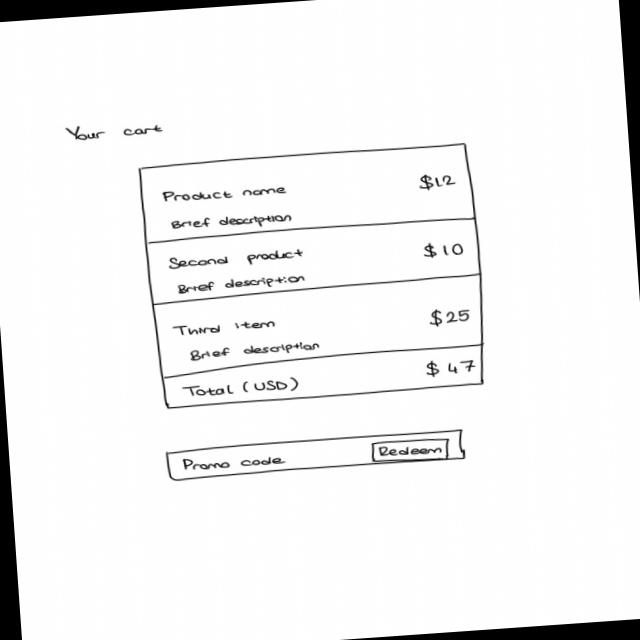button: (369, 434, 451, 463)
container: (150, 270, 492, 380), (134, 141, 478, 243), (142, 216, 484, 306), (158, 343, 488, 410), (165, 427, 468, 482)
label: (166, 245, 306, 271), (180, 374, 302, 400), (176, 272, 307, 296), (160, 180, 290, 204), (188, 339, 321, 362), (169, 210, 293, 234), (178, 448, 288, 472), (63, 117, 165, 142), (171, 316, 277, 338), (423, 356, 477, 379), (427, 306, 472, 330), (418, 238, 466, 260), (416, 170, 458, 191)
